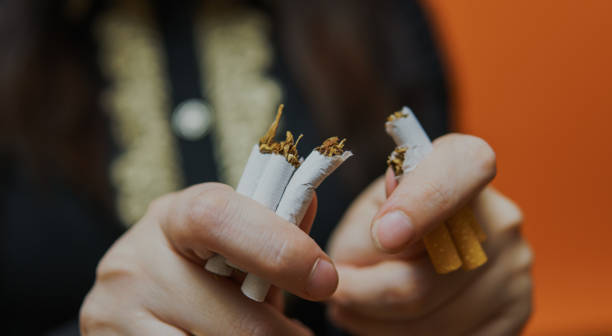cigarette: (240, 136, 354, 303), (386, 104, 489, 274), (203, 103, 285, 277), (224, 131, 304, 276), (385, 142, 464, 274)
